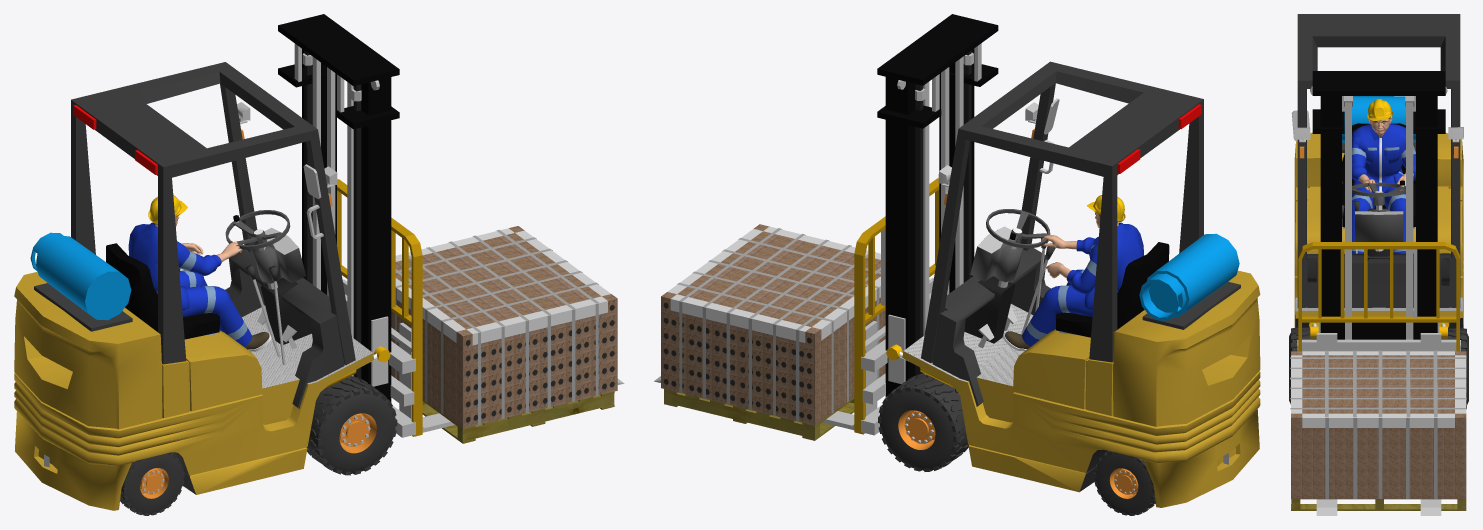
Rendered from stapler.glb.
The picture shows the model from 3 angles, left to right: view 1: azimuth 30°, elevation 25°; view 2: azimuth 150°, elevation 25°; view 3: azimuth 270°, elevation 25°; orthographic projection. The views are drawn at different scales.
Visible parts, largest first — view 1: Component (×18), Group (×2); view 2: Component (×19), Group (×2); view 3: Component (×17), Group (×4).
Part boxes in pixels (x1,y1,x2,y2): Component (×18): (14,14,624,515); Group (×2): (128,222,252,346); Component (×19): (654,14,1260,515); Group (×2): (1022,212,1143,346); Component (×17): (1289,14,1468,515); Group (×4): (1352,98,1415,253).
Size of the model in its own units: 3.25 by 2.17 by 1.05.
Materials: 25 (4 with a texture image).
